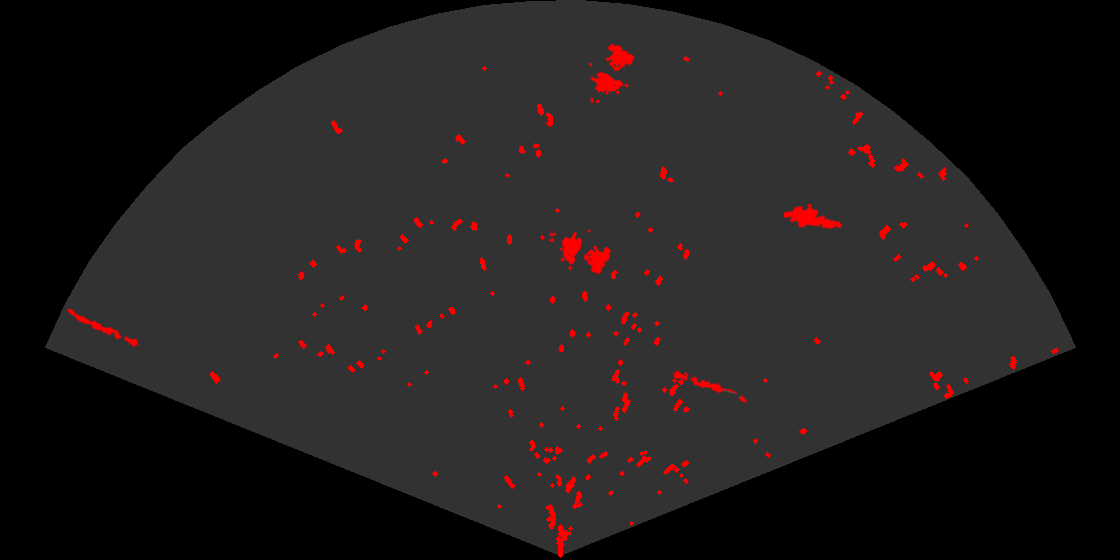cage: (549, 230, 613, 276), (589, 42, 636, 103)
chain: (66, 307, 142, 349), (670, 369, 749, 404)
frogman: (784, 202, 843, 230)
